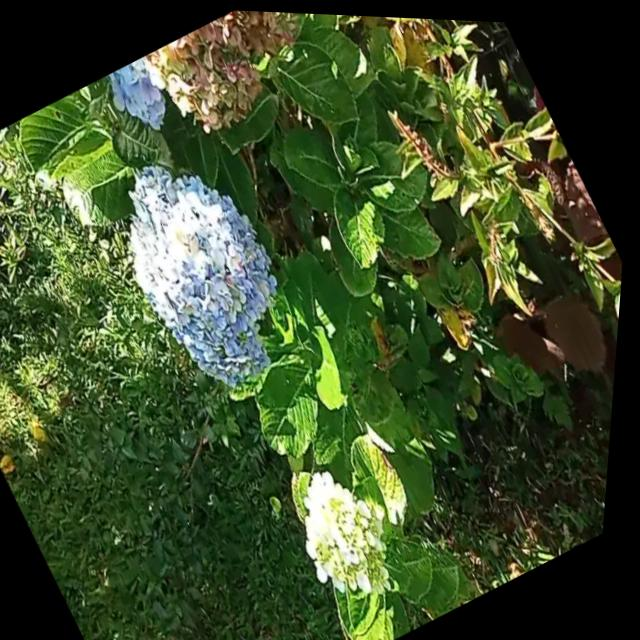Flower: (81, 123, 338, 416), (277, 447, 423, 609)
